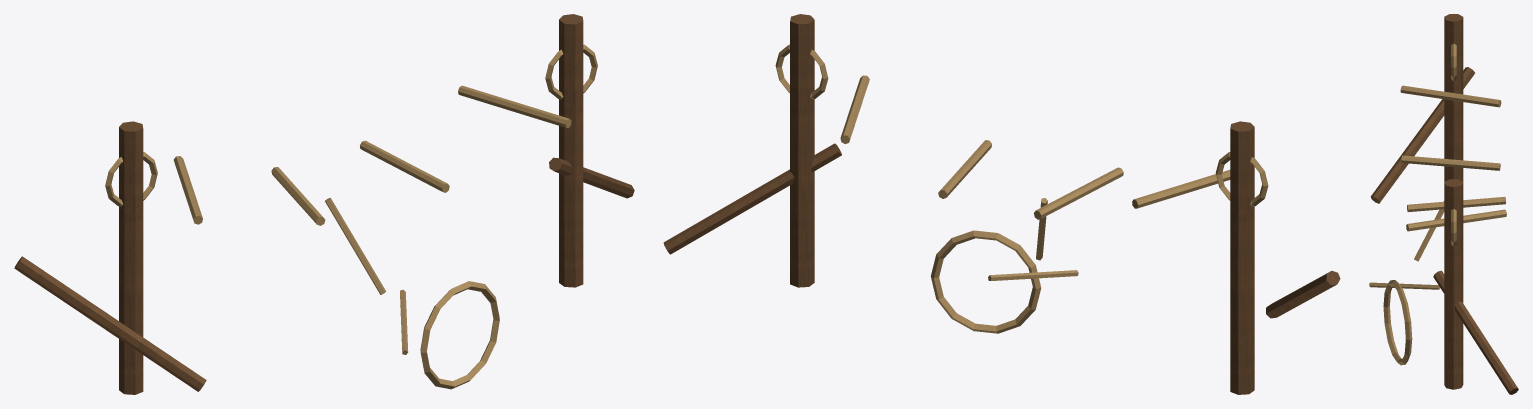
The model's file is en-024_camp_boundary_rope_set__slack.obj.
3 renders of one model, left to right at view 1: azimuth 30°, elevation 25°; view 2: azimuth 150°, elevation 25°; view 3: azimuth 270°, elevation 25°, orthographic. The views are drawn at different scales.
Parts seen in each view (by area): view 1: en-024_camp_boundary_rope_set__slack; view 2: en-024_camp_boundary_rope_set__slack; view 3: en-024_camp_boundary_rope_set__slack.
Boxes of the visible parts, x1,y1,x2,y2 form: en-024_camp_boundary_rope_set__slack: (14,14,634,394); en-024_camp_boundary_rope_set__slack: (663,14,1340,394); en-024_camp_boundary_rope_set__slack: (1369,14,1518,394).
Size of the model in its own units: 2.06 by 0.9231 by 0.5358.
2 materials, 2 textured.
